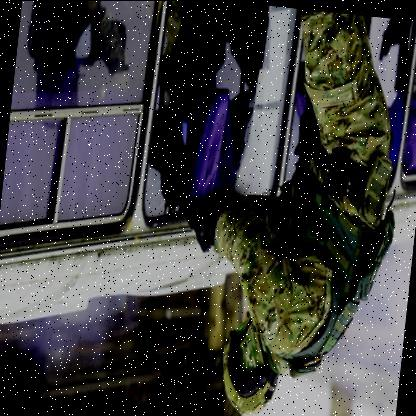rifle: (175, 193, 221, 255)
